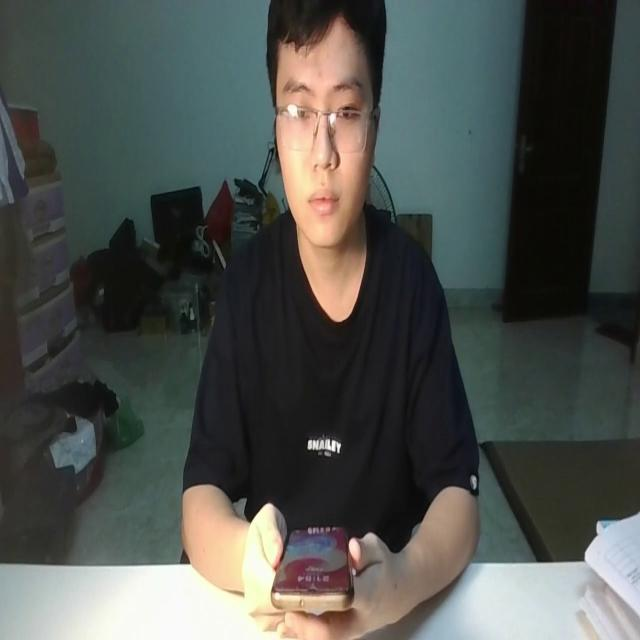phone: (269, 509, 354, 615)
student: (177, 0, 483, 640)
